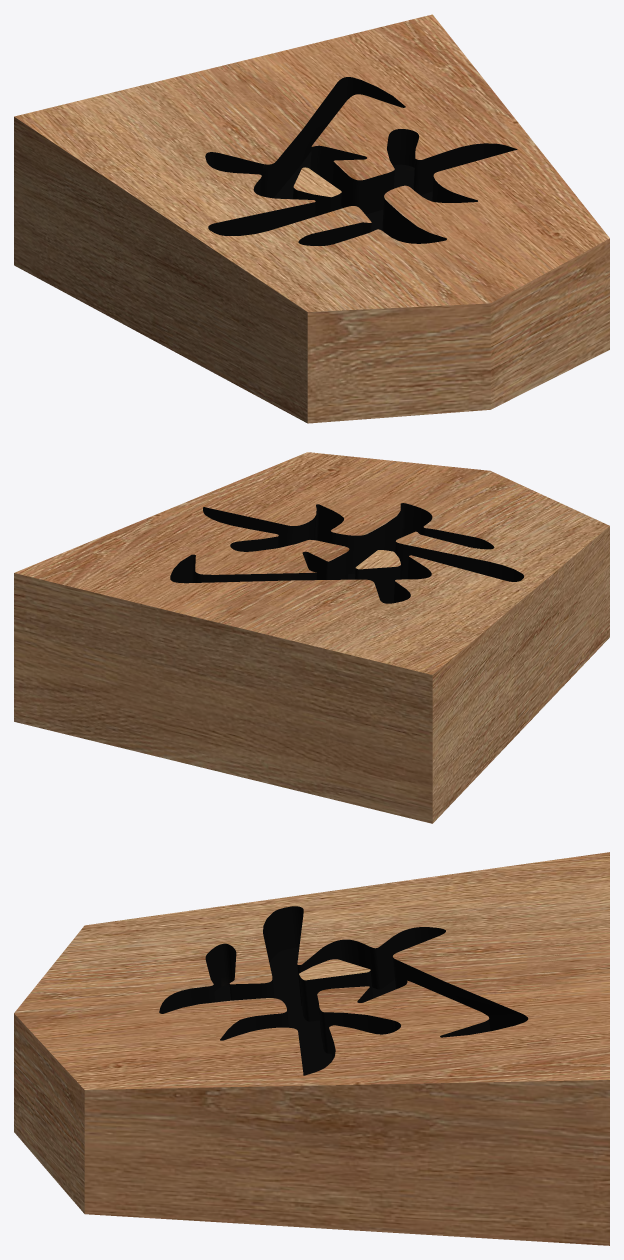
File: Pawn.fbx
3 renders of one model, top to bottom at view 1: azimuth 30°, elevation 25°; view 2: azimuth 150°, elevation 25°; view 3: azimuth 270°, elevation 25°, orthographic. The views are drawn at different scales.
Visible parts, largest first — view 1: Pawn; view 2: Pawn; view 3: Pawn.
Part boxes in pixels (x1,y1,x2,y2): Pawn: (14, 14, 609, 423); Pawn: (14, 452, 609, 823); Pawn: (14, 852, 609, 1245).
Size of the model in its own units: 2250 by 764 by 2487.
